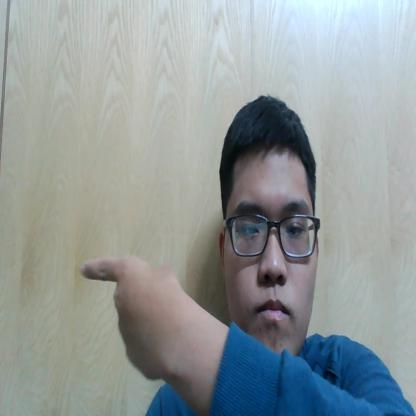right: (69, 246, 198, 403)
